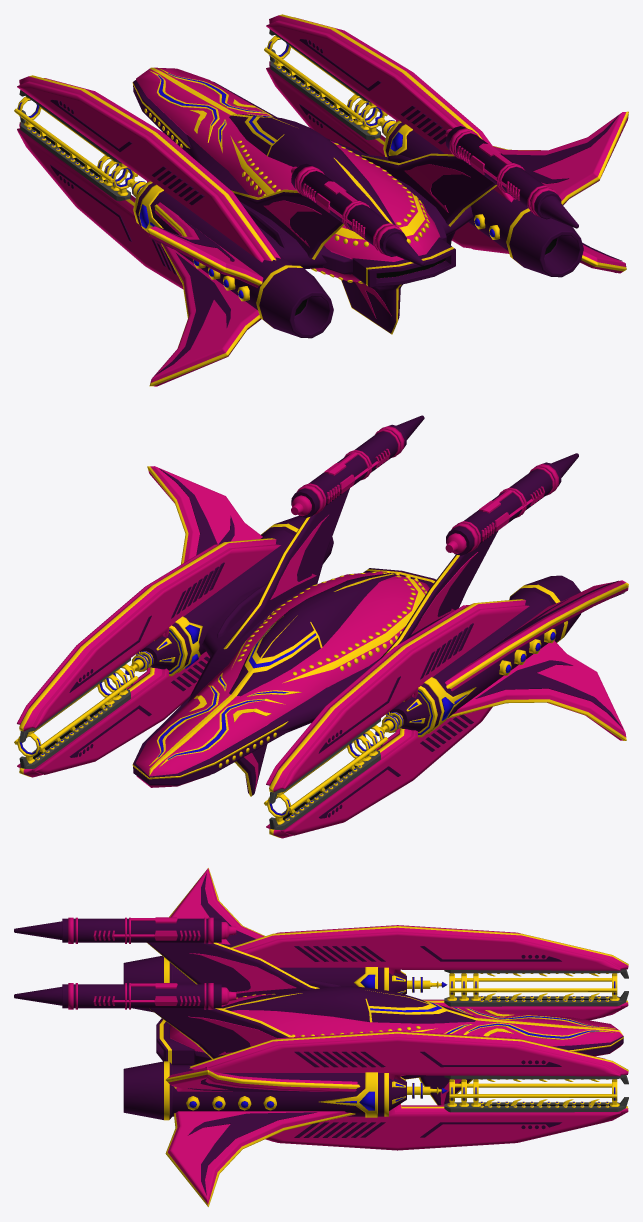
File: AlienStarfighter33.obj
The picture shows the model from 3 angles, top to bottom: view 1: azimuth 30°, elevation 25°; view 2: azimuth 150°, elevation 25°; view 3: azimuth 270°, elevation 25°; orthographic projection. The views are drawn at different scales.
Visible parts, largest first — view 1: Cylinder.003_Cylinder.005, Sphere_Sphere.002, Cylinder.001_Cylinder.006, Cube.001, Cube.005, Cylinder.004_Cylinder.002, Cube.004_Cube.002, Sphere.001_Sphere.003, Cylinder.010_Cylinder.003, Cube.006, Cube.019_Cube.034, Cylinder.006_Cylinder.007 (+12 smaller); view 2: Cylinder.003_Cylinder.005, Sphere_Sphere.002, Cylinder.001_Cylinder.006, Sphere.001_Sphere.003, Cube.001, Cube.005, Cylinder.004_Cylinder.002, Cube.004_Cube.002, Cylinder.010_Cylinder.003, Cube.006, Cube.010, Cube.019_Cube.034 (+10 smaller); view 3: Cylinder.003_Cylinder.005, Cylinder.001_Cylinder.006, Sphere_Sphere.002, Cylinder.004_Cylinder.002, Cube.001, Sphere.001_Sphere.003, Cube.004_Cube.002, Cube.006, Cube.005, Cylinder.022_Cylinder.030, Cube.010, Cube.017_Cube.028 (+10 smaller).
Boxes of the visible parts, x1,y1,x2,y2 form: Cylinder.003_Cylinder.005: (17, 14, 516, 288); Sphere_Sphere.002: (133, 67, 455, 287); Cylinder.001_Cylinder.006: (125, 116, 583, 338); Cube.001: (230, 153, 496, 259); Cube.005: (147, 111, 628, 287); Cylinder.004_Cylinder.002: (291, 126, 578, 266); Cube.004_Cube.002: (149, 243, 626, 386); Sphere.001_Sphere.003: (229, 114, 395, 225); Cylinder.010_Cylinder.003: (183, 135, 473, 269); Cube.006: (19, 29, 380, 201); Cube.019_Cube.034: (155, 243, 622, 375); Cylinder.006_Cylinder.007: (341, 280, 402, 334); Cylinder.003_Cylinder.005: (17, 538, 529, 838); Sphere_Sphere.002: (133, 568, 436, 787); Cylinder.001_Cylinder.006: (125, 516, 581, 737); Sphere.001_Sphere.003: (229, 573, 396, 696); Cube.001: (223, 488, 498, 661); Cube.005: (147, 466, 628, 691); Cylinder.004_Cylinder.002: (291, 415, 578, 555); Cube.004_Cube.002: (447, 640, 626, 740); Cylinder.010_Cylinder.003: (188, 586, 379, 732); Cube.006: (19, 658, 380, 830); Cube.010: (171, 562, 473, 751); Cube.019_Cube.034: (475, 660, 622, 728); Cylinder.003_Cylinder.005: (189, 925, 628, 1150); Cylinder.001_Cylinder.006: (123, 956, 447, 1120); Sphere_Sphere.002: (156, 994, 623, 1076); Cylinder.004_Cylinder.002: (14, 918, 236, 1008); Cube.001: (147, 942, 319, 1059); Sphere.001_Sphere.003: (221, 986, 476, 1023); Cube.004_Cube.002: (165, 1111, 355, 1206); Cube.006: (444, 969, 628, 1112); Cube.005: (166, 868, 360, 1091); Cylinder.022_Cylinder.030: (449, 978, 616, 1097); Cube.010: (294, 946, 385, 1137); Cube.017_Cube.028: (188, 953, 296, 1055).
Bounding box in the file's own units: 6.19 × 2.36 × 7.88.
